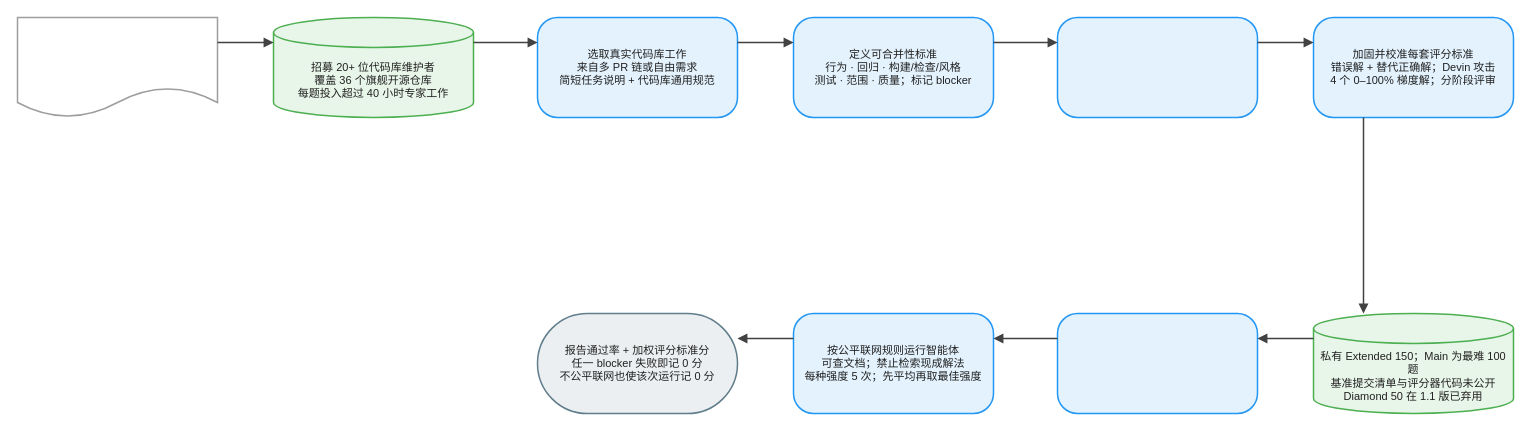
The diagram is 1532 pixels wide and 432 high, and some of its shapes have lost their labels. The centre of each missing label's shape, as x and y in pixels:
"为每条标准配置评分方式 经典/命令 · 反向经典 · 范围检查 mutagent 自适应经典 · LLM 提示评分" belongs at pixel 1157 67.
"应用 FrontierCode 1.1 评分更新 审核 1,000+ 标准；75 个 blocker 降级 公平联网提示 + 经典违规验证器" belongs at pixel 1157 363.
"证据：官方文章 2026-06-08 / 2026-07-07 无论文、公开仓库或题目/评分器发布 仅展示官方披露的阶段和数量" belongs at pixel 117 67.
